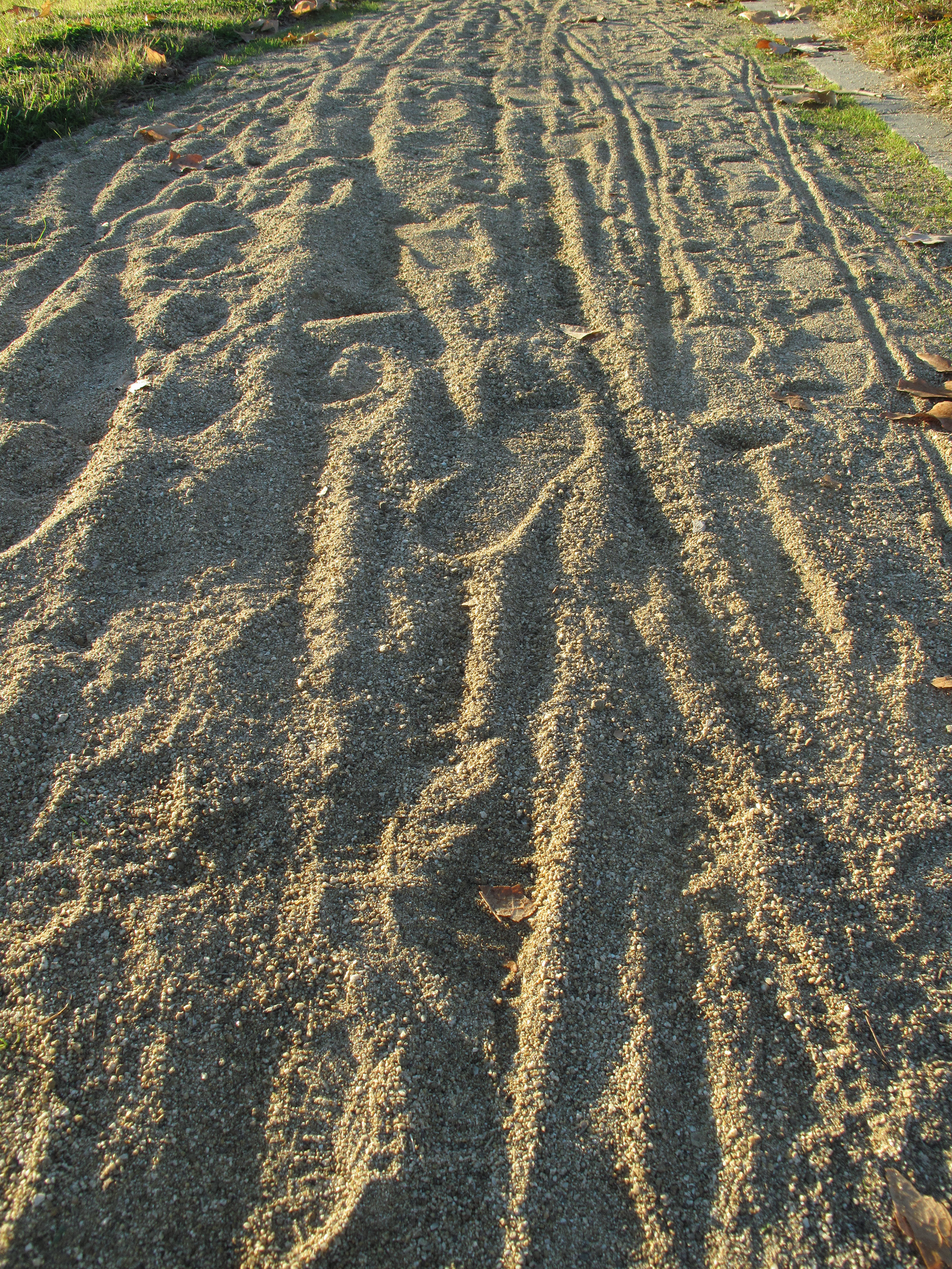human_foot_print: (410, 397, 573, 555), (278, 287, 445, 419), (150, 322, 260, 479), (710, 349, 793, 523)
